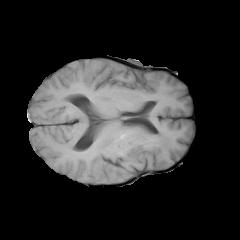glioma: (85, 122, 171, 180)
